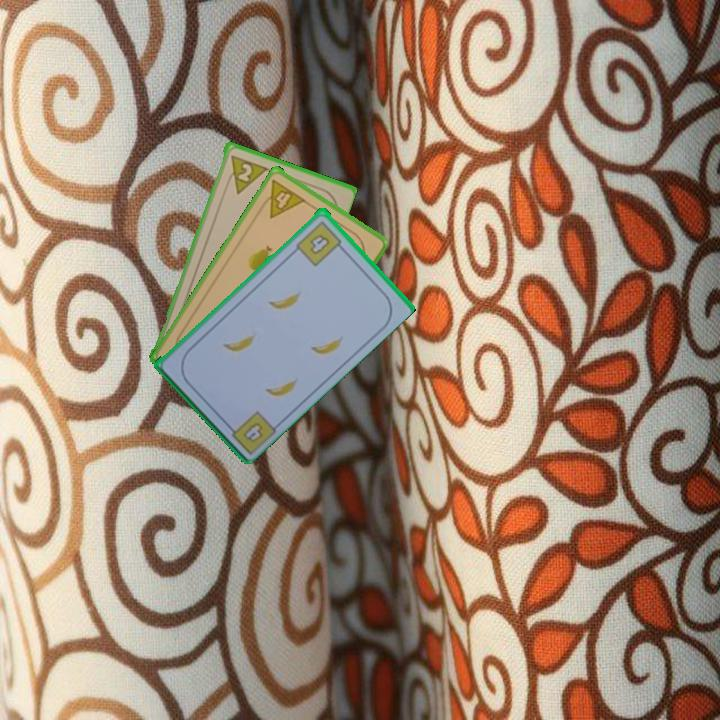2p: (222, 151, 269, 196)
4b: (293, 217, 347, 269), (222, 406, 278, 456)
4p: (255, 175, 308, 221)
